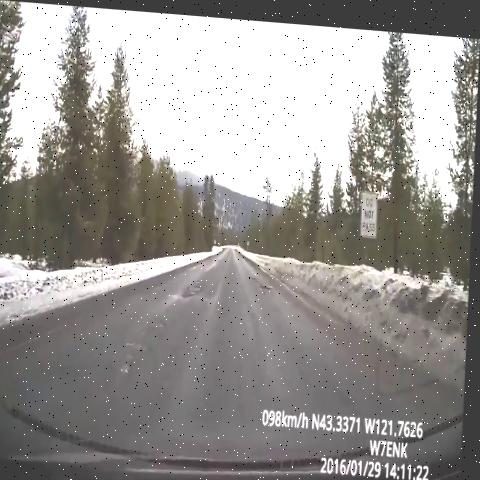pothole: (116, 325, 152, 391), (181, 270, 208, 309), (250, 266, 279, 298), (151, 303, 170, 339)
